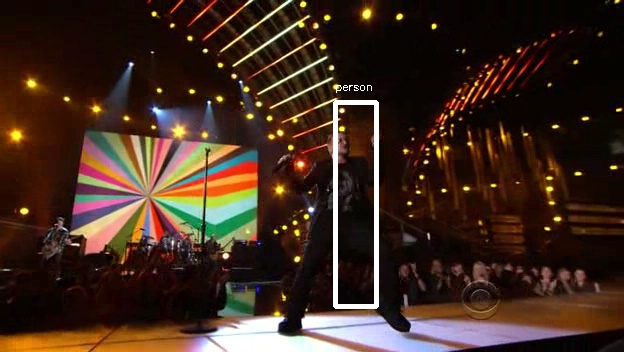person: (309, 129, 375, 249), (306, 129, 372, 249), (312, 129, 378, 249), (309, 126, 375, 246), (309, 132, 375, 252)
target_negative: (203, 209, 278, 351), (144, 101, 184, 314), (300, 107, 586, 136), (164, 79, 171, 237), (403, 270, 456, 274), (604, 319, 611, 349)
